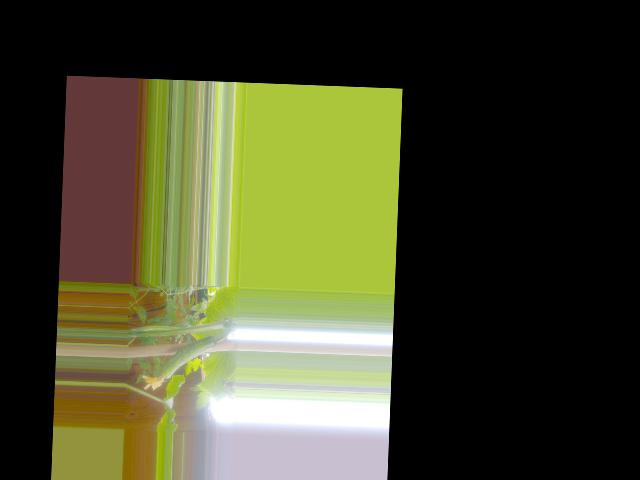cucumber: (141, 334, 216, 393)
